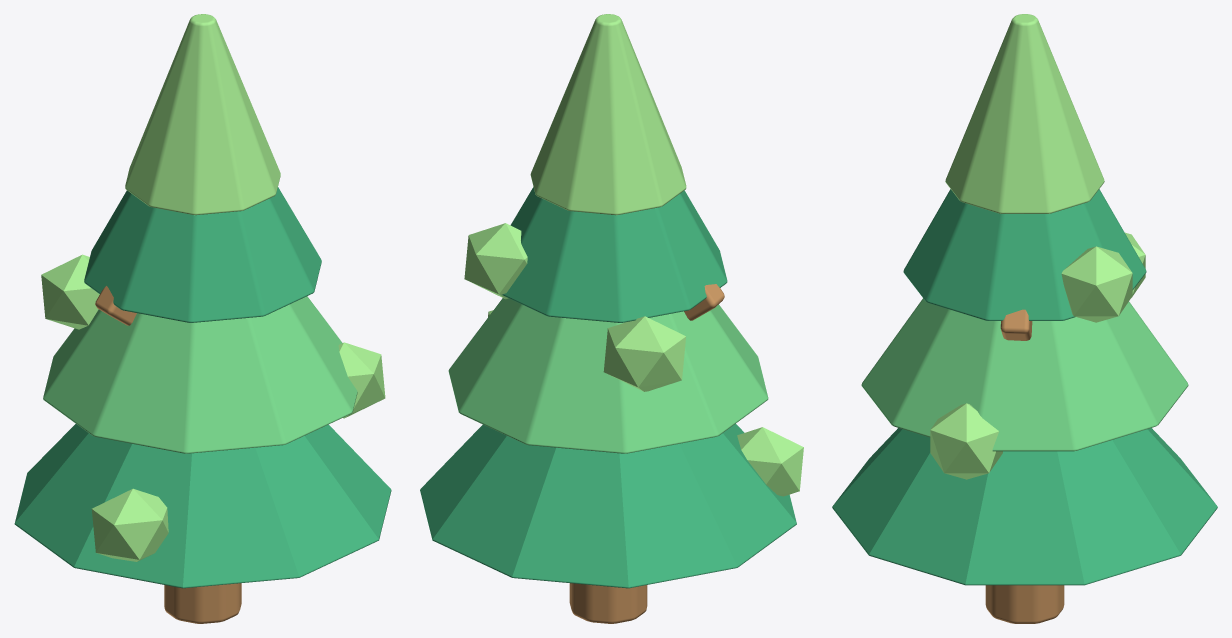
Rendered from Tree_Full.fbx.
3 views of the same model, side by side, from view 1: azimuth 30°, elevation 25°; view 2: azimuth 150°, elevation 25°; view 3: azimuth 270°, elevation 25° (orthographic).
Parts seen in each view (by area): view 1: Layered pine crown 00, Layered pine crown 01, Layered pine crown 02, Layered pine crown 03, Rounded needle tuft, Rounded needle tuft.002, Warm sculpted trunk, Rounded needle tuft.001, Branch; view 2: Layered pine crown 00, Layered pine crown 01, Layered pine crown 02, Layered pine crown 03, Rounded needle tuft.002, Rounded needle tuft.003, Rounded needle tuft, Warm sculpted trunk, Branch; view 3: Layered pine crown 00, Layered pine crown 01, Layered pine crown 03, Layered pine crown 02, Rounded needle tuft.003, Rounded needle tuft.001, Warm sculpted trunk, Branch.001.
Part boxes in pixels (x1,y1,x2,y2): Layered pine crown 00: (14, 424, 391, 588); Layered pine crown 01: (43, 296, 357, 453); Layered pine crown 02: (84, 187, 321, 322); Layered pine crown 03: (125, 14, 280, 215); Rounded needle tuft: (91, 488, 168, 561); Rounded needle tuft.002: (41, 254, 99, 329); Warm sculpted trunk: (164, 583, 241, 623); Rounded needle tuft.001: (338, 342, 385, 418); Branch: (95, 286, 136, 325); Layered pine crown 00: (420, 423, 796, 588); Layered pine crown 01: (448, 298, 768, 453); Layered pine crown 02: (502, 187, 727, 322); Layered pine crown 03: (530, 14, 686, 215); Rounded needle tuft.002: (603, 316, 685, 391); Rounded needle tuft.003: (464, 223, 527, 299); Rounded needle tuft: (737, 427, 803, 496); Warm sculpted trunk: (569, 583, 647, 623); Branch: (684, 284, 724, 320); Layered pine crown 00: (832, 428, 1217, 585); Layered pine crown 01: (861, 298, 1188, 451); Layered pine crown 03: (945, 14, 1104, 213); Layered pine crown 02: (903, 189, 1146, 320); Rounded needle tuft.003: (1061, 246, 1132, 322); Rounded needle tuft.001: (930, 403, 1002, 479); Warm sculpted trunk: (985, 585, 1064, 623); Branch.001: (1000, 309, 1032, 340).
Bounding box in the file's own units: 566 × 1008 × 596.
